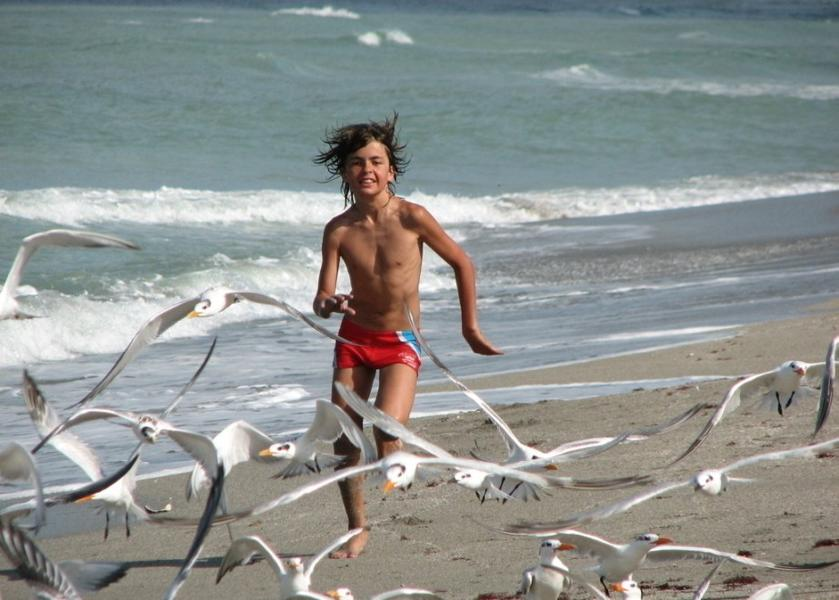person: (313, 123, 505, 559)
